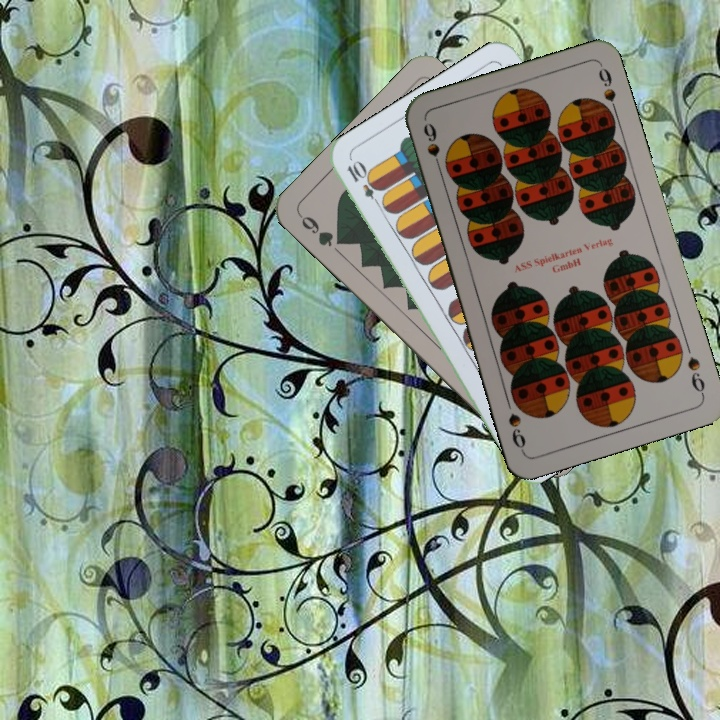E10: (343, 157, 386, 211)
G9: (295, 210, 348, 250)
S9: (419, 119, 445, 176), (683, 352, 708, 399)
